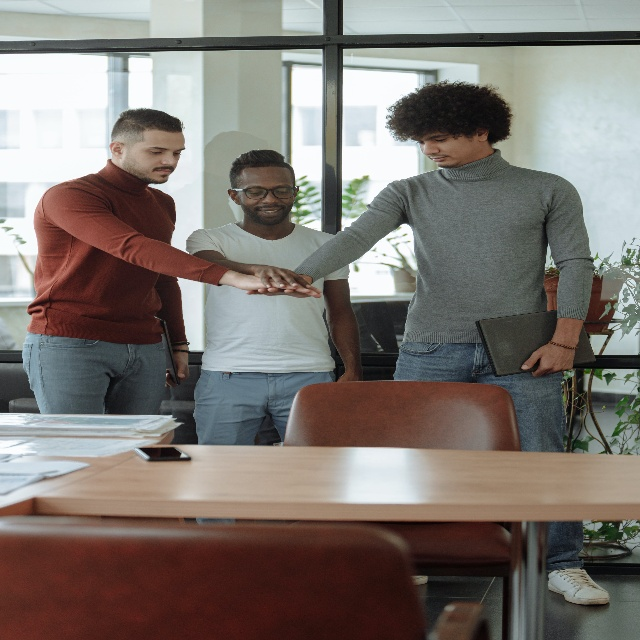Gafas: (232, 185, 298, 201)
Sin_guantes: (520, 338, 576, 378), (257, 261, 311, 288), (164, 343, 191, 390), (245, 283, 324, 299)
